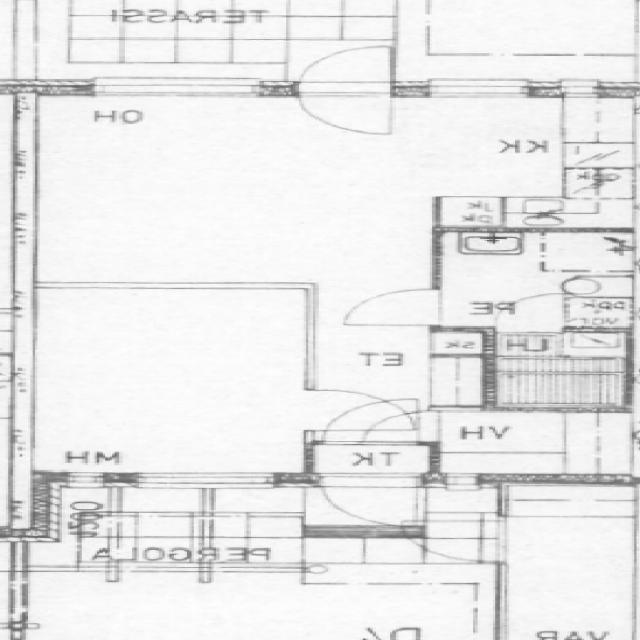door: (320, 470, 417, 530), (298, 82, 391, 138), (298, 41, 391, 97), (398, 520, 507, 562), (323, 401, 416, 446), (306, 391, 406, 429), (345, 288, 439, 325), (498, 300, 562, 332), (366, 413, 439, 440)
